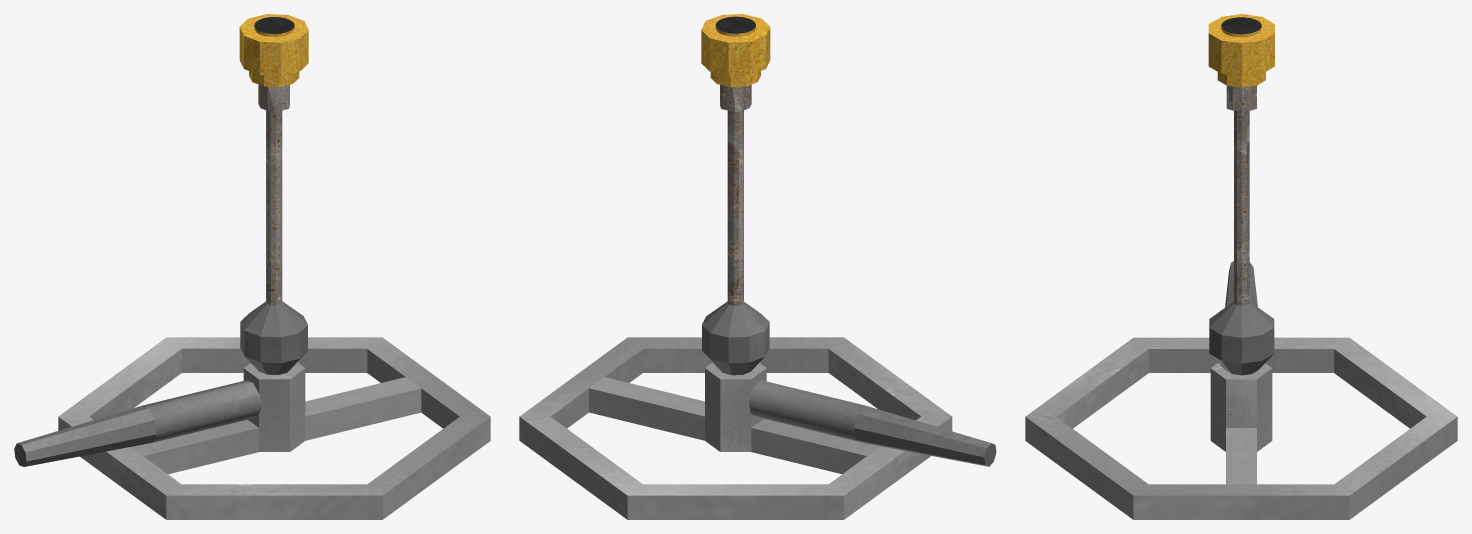
The model's file is Bunsen B.FBX.
3 views of the same model, side by side, from view 1: azimuth 30°, elevation 25°; view 2: azimuth 150°, elevation 25°; view 3: azimuth 270°, elevation 25° (orthographic).
Visible parts, largest first — view 1: bunsen burner; view 2: bunsen burner; view 3: bunsen burner.
Part boxes in pixels (x1,y1,x2,y2): bunsen burner: (14,14,490,519); bunsen burner: (519,14,996,519); bunsen burner: (1025,14,1457,519).
Size of the model in its own units: 16.02 by 15.27 by 14.41.
Materials: 5 (5 with a texture image).
